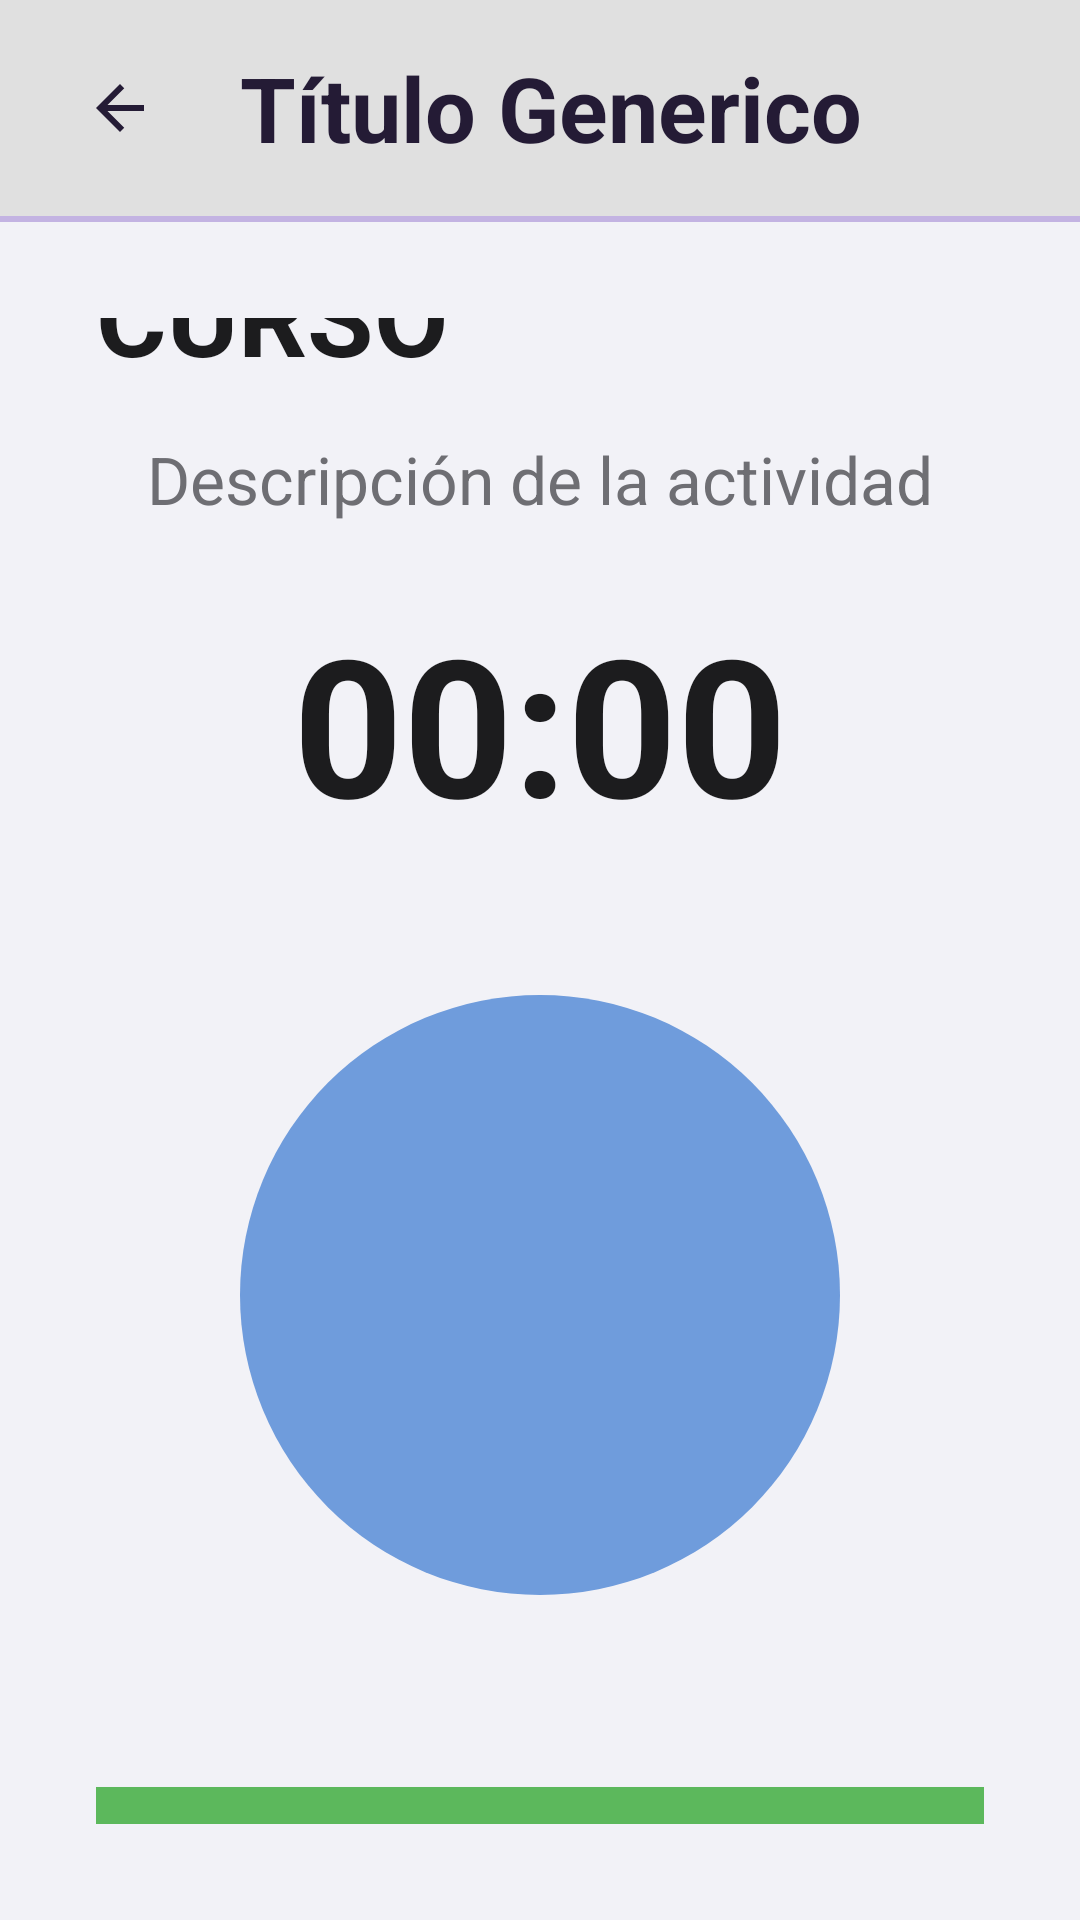

Icons on this 1080x1920 Android screen, each with its box as (x1, y1, x2, y2):
Atrás: (96, 84, 144, 132)
